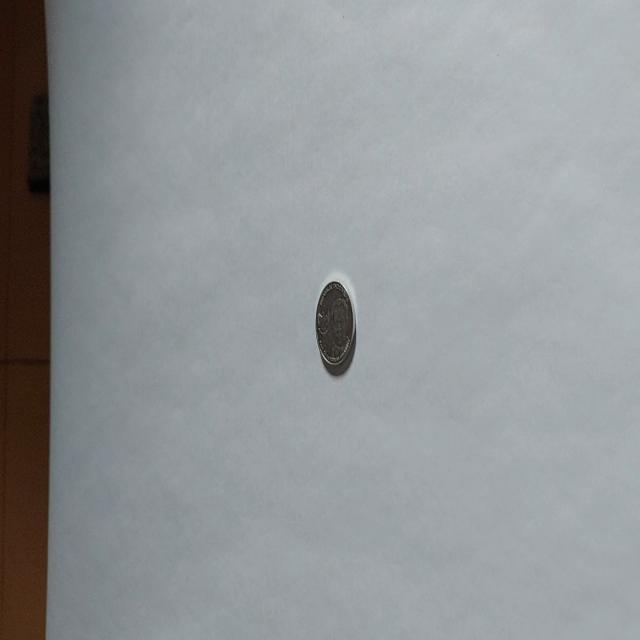seratus rupiah: (314, 278, 356, 374)
